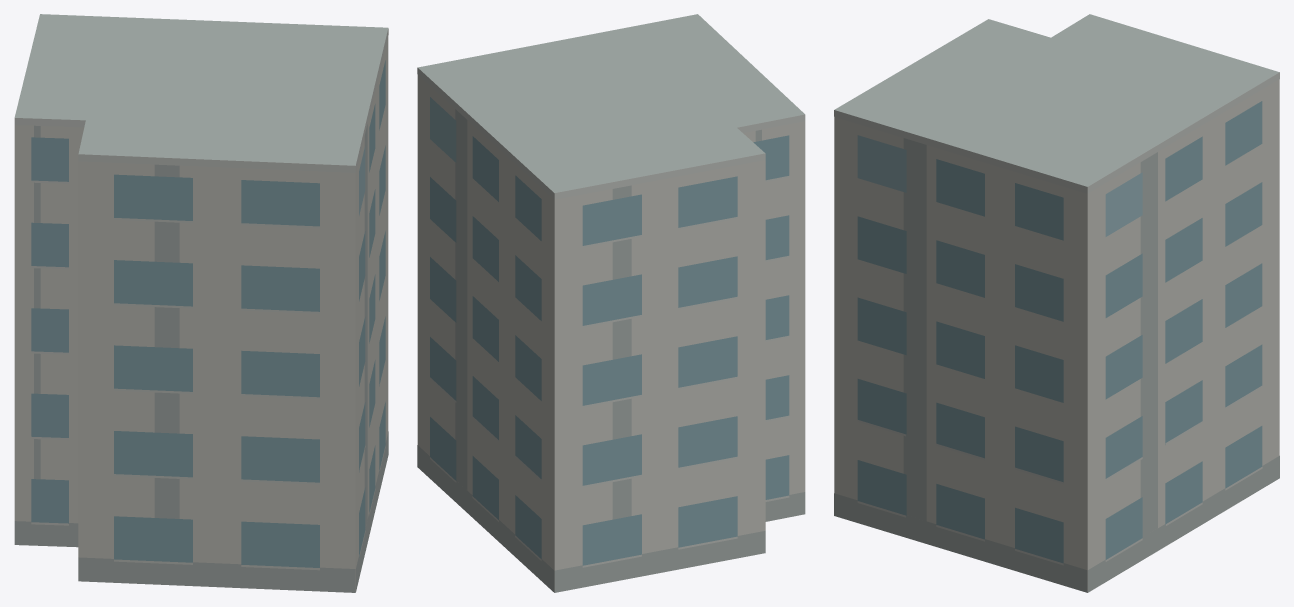
Rendered from survey-upis-32793816.glb.
3 renders of one model, left to right at view 1: azimuth 30°, elevation 25°; view 2: azimuth 150°, elevation 25°; view 3: azimuth 270°, elevation 25°, orthographic. The views are drawn at different scales.
Parts seen in each view (by area): view 1: survey-upis-32793816.tmp; view 2: survey-upis-32793816.tmp; view 3: survey-upis-32793816.tmp.
Boxes of the visible parts, x1,y1,x2,y2 form: survey-upis-32793816.tmp: [14, 14, 388, 592]; survey-upis-32793816.tmp: [417, 14, 805, 592]; survey-upis-32793816.tmp: [834, 14, 1279, 592].
Bounding box in the file's own units: 13.12 × 14.35 × 14.29.
